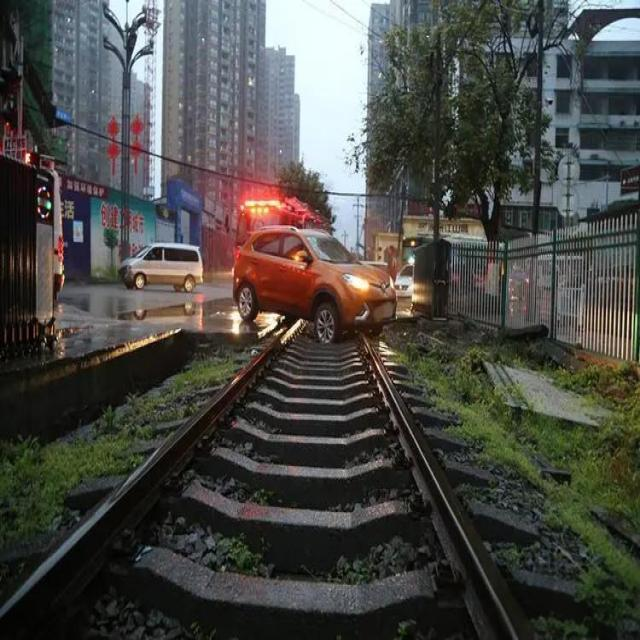people: (385, 236, 400, 281)
vehicle: (231, 224, 411, 347), (118, 232, 208, 294)
